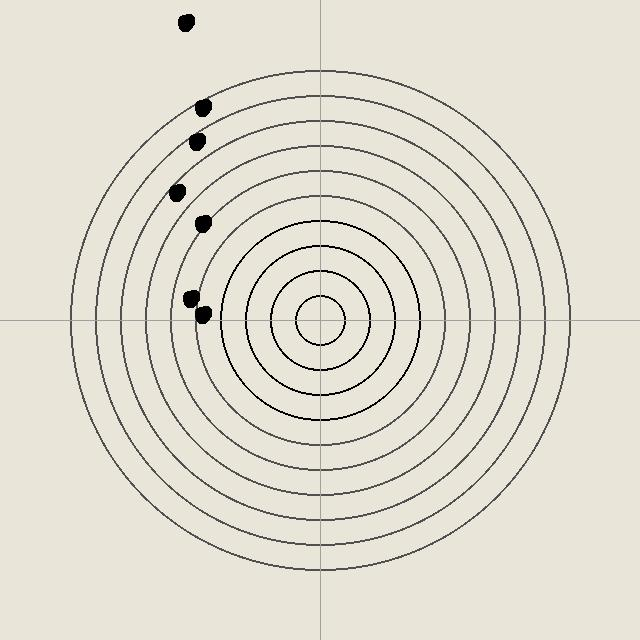vertical_scatter: (175, 12, 195, 32), (192, 97, 212, 117), (166, 182, 186, 202), (192, 213, 212, 233), (186, 131, 206, 151), (192, 304, 212, 324), (180, 288, 200, 308)
